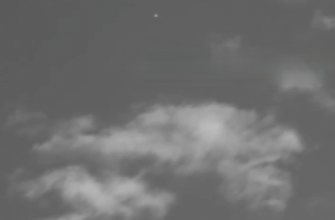Target: (155, 15, 158, 17)
